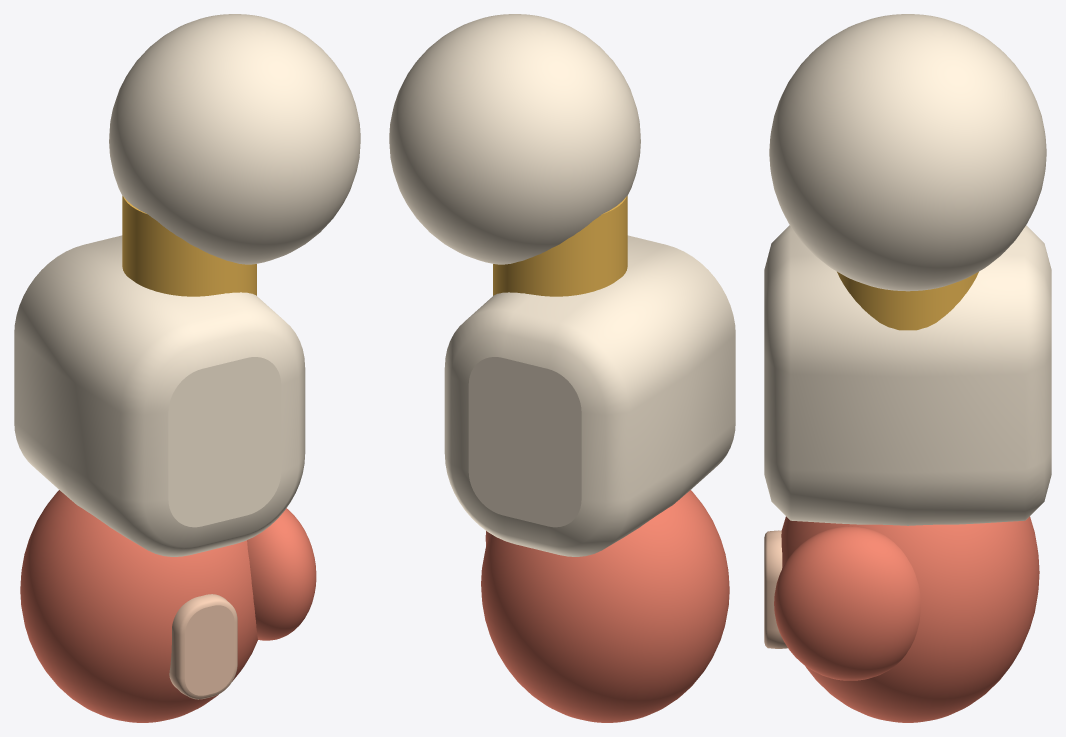
Rendered from part-left-arm.glb.
3 views of the same model, side by side, from view 1: azimuth 30°, elevation 25°; view 2: azimuth 150°, elevation 25°; view 3: azimuth 270°, elevation 25° (orthographic). The views are drawn at different scales.
Visible parts, largest first — view 1: forearm-left, shoulder-left, mitten-left, elbow-left, thumb-left, palm-detail-left; view 2: forearm-left, shoulder-left, mitten-left, elbow-left; view 3: forearm-left, shoulder-left, mitten-left, thumb-left, elbow-left, palm-detail-left.
Boxes of the visible parts, box(x1,y1,x2,y2) form: forearm-left: box(14, 235, 305, 556); shoulder-left: box(109, 14, 360, 264); mitten-left: box(20, 490, 258, 722); elbow-left: box(122, 196, 256, 296); thumb-left: box(247, 508, 316, 640); palm-detail-left: box(169, 594, 237, 699); forearm-left: box(444, 235, 735, 556); shoulder-left: box(389, 14, 640, 264); mitten-left: box(481, 490, 729, 722); elbow-left: box(493, 196, 627, 296); forearm-left: box(764, 225, 1051, 525); shoulder-left: box(769, 14, 1046, 291); mitten-left: box(781, 516, 1039, 722); thumb-left: box(774, 526, 920, 680); elbow-left: box(837, 271, 978, 330); palm-detail-left: box(764, 530, 787, 648).
Size of the model in its own units: 0.82 by 1.69 by 0.6.
